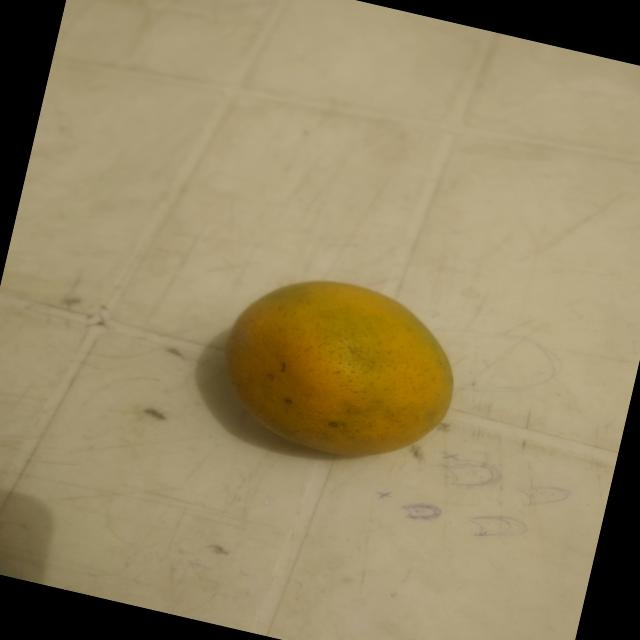agrume: (180, 232, 504, 508)
